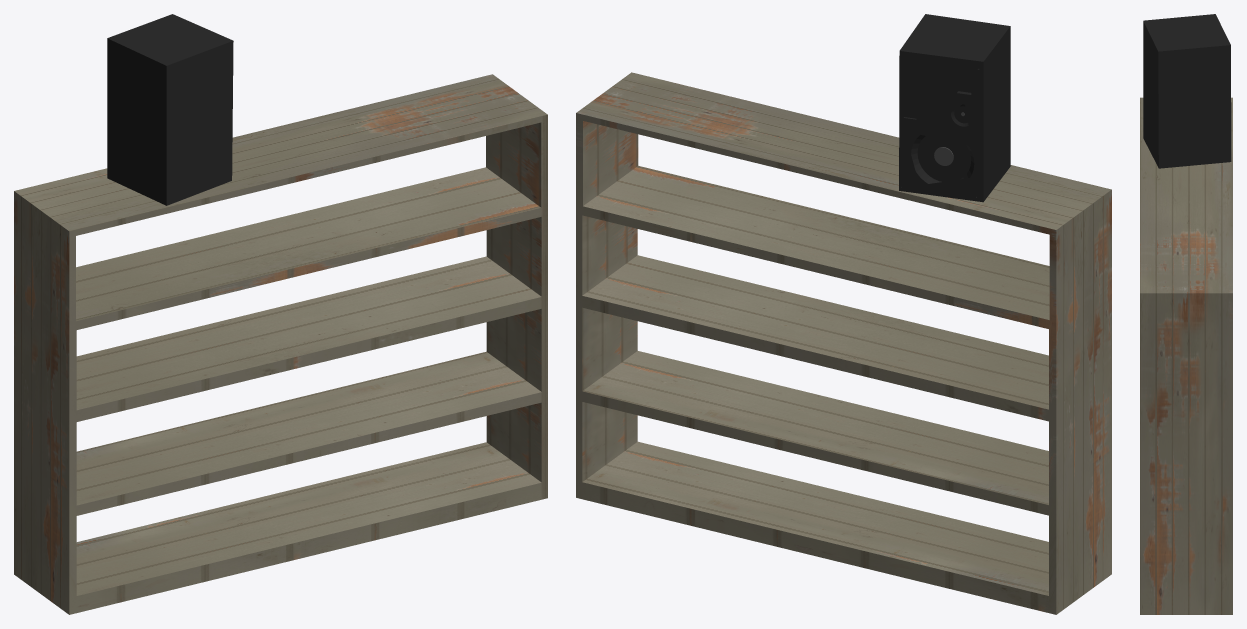
File: regal_soundanlage.fbx
The picture shows the model from 3 angles, left to right: view 1: azimuth 30°, elevation 25°; view 2: azimuth 150°, elevation 25°; view 3: azimuth 270°, elevation 25°; orthographic projection. The views are drawn at different scales.
Parts seen in each view (by area): view 1: Cube.001, Cube; view 2: Cube.001, Cube; view 3: Cube.001, Cube.
Boxes of the visible parts, bbox=[...] form: Cube.001: bbox=[14, 74, 547, 614]; Cube: bbox=[107, 14, 233, 205]; Cube.001: bbox=[576, 72, 1111, 614]; Cube: bbox=[899, 14, 1010, 202]; Cube.001: bbox=[1140, 97, 1232, 614]; Cube: bbox=[1143, 14, 1231, 168].
Size of the model in its own units: 500 by 523 by 100.
6 materials, 2 textured.
